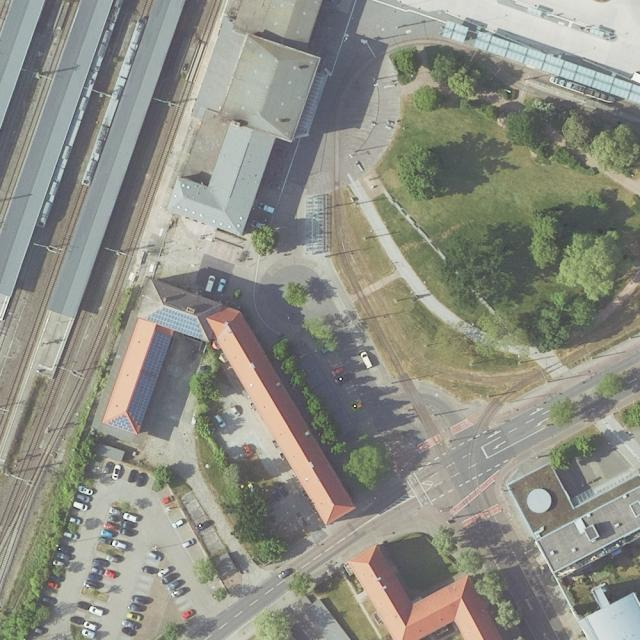PV: (128, 332, 173, 432), (147, 307, 207, 341), (105, 414, 134, 432)
